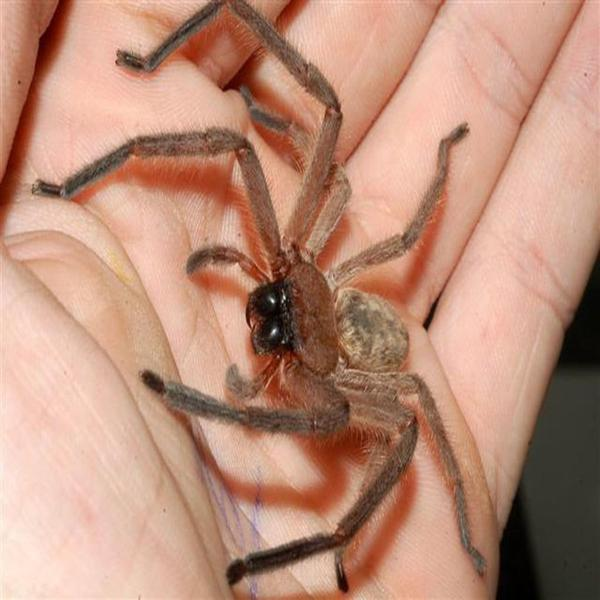Huntsman Spider: (40, 6, 488, 582)
